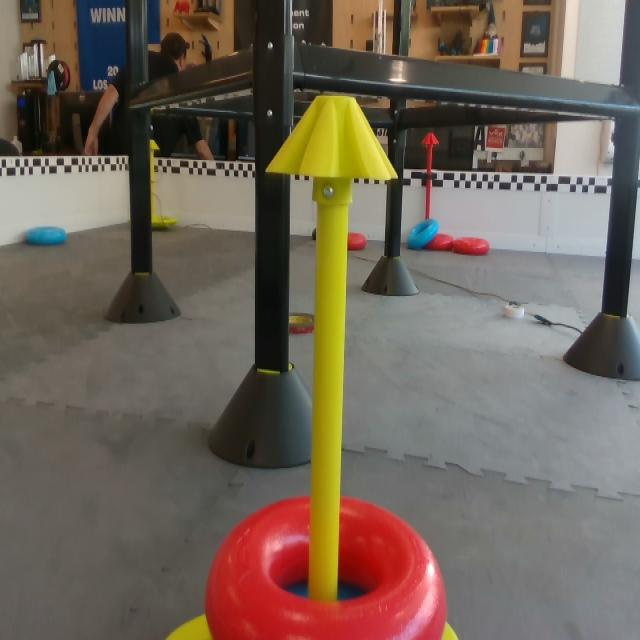Blue-Ring: (25, 220, 68, 249), (407, 216, 439, 248)
Mobile-Goal: (161, 94, 460, 639), (151, 138, 179, 227)
Red-Ring: (204, 496, 449, 639), (454, 234, 494, 256), (425, 234, 459, 257), (351, 229, 369, 253)
Yellow-Stake-Head: (264, 92, 398, 186), (150, 140, 159, 149)
zred-Stake-Head: (422, 132, 439, 146)
